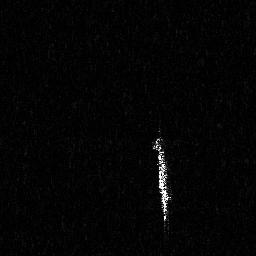ship: (152, 124, 176, 238)
